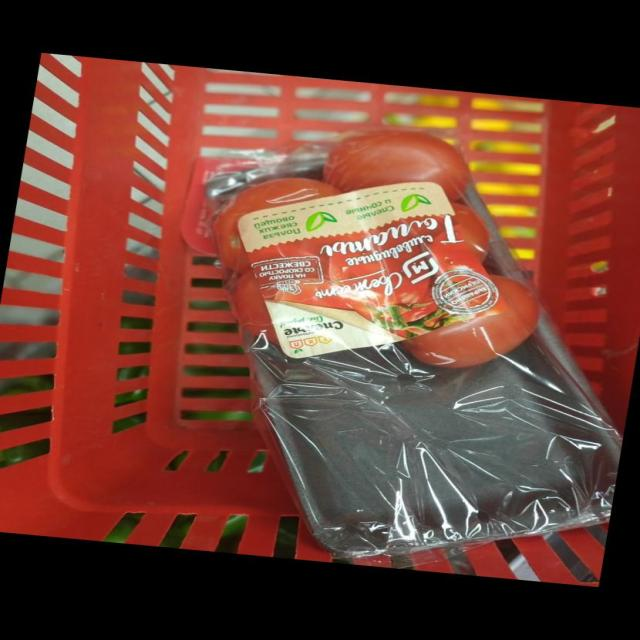tomato: (276, 157, 640, 439), (238, 105, 640, 308), (117, 134, 346, 424), (112, 107, 407, 311), (233, 74, 640, 207)
